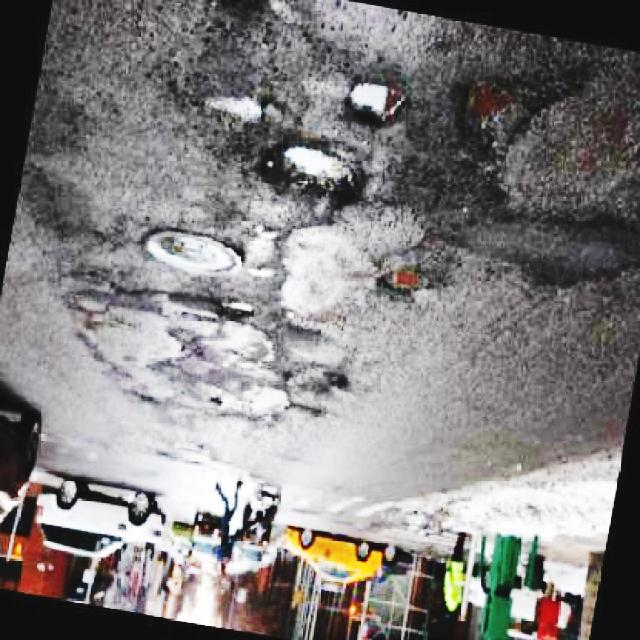pothole: (449, 192, 640, 294), (457, 50, 600, 176), (164, 283, 284, 374), (262, 130, 376, 222), (349, 72, 414, 131), (217, 382, 306, 423), (237, 218, 292, 284), (63, 260, 115, 328), (217, 80, 280, 134), (380, 259, 445, 303)
